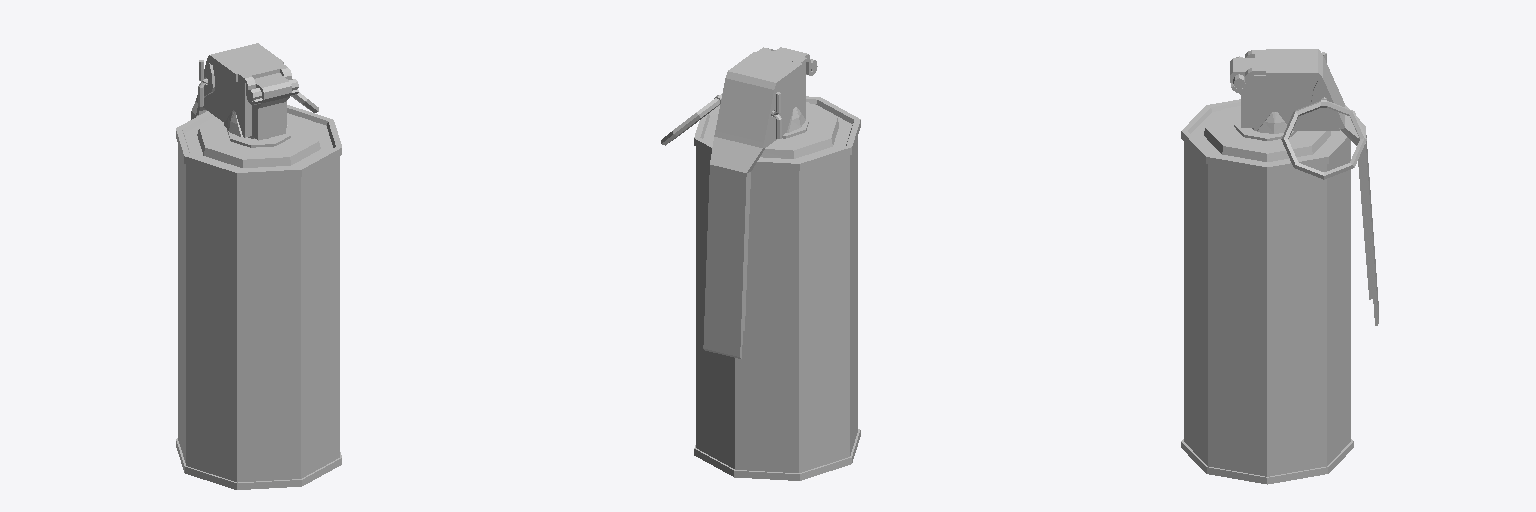
Rendered from M18 Smoke Grenade 1.obj.
3 renders of one model, left to right at view 1: azimuth 30°, elevation 25°; view 2: azimuth 150°, elevation 25°; view 3: azimuth 270°, elevation 25°, orthographic.
Parts seen in each view (by area): view 1: M18_Smoke_Grenade_1, M18_Smoke_Grenade_1_Pin_1; view 2: M18_Smoke_Grenade_1, M18_Smoke_Grenade_1_Pin_1, M18_Smoke_Grenade_1_Safety_Pin_Handle_1; view 3: M18_Smoke_Grenade_1, M18_Smoke_Grenade_1_Pin_1, M18_Smoke_Grenade_1_Safety_Pin_Handle_1.
Boxes of the visible parts, box(x1,y1,x2,y2) form: M18_Smoke_Grenade_1: box(176, 66, 341, 489); M18_Smoke_Grenade_1_Pin_1: box(191, 43, 298, 119); M18_Smoke_Grenade_1: box(694, 47, 860, 480); M18_Smoke_Grenade_1_Pin_1: box(703, 47, 817, 358); M18_Smoke_Grenade_1_Safety_Pin_Handle_1: box(661, 93, 722, 145); M18_Smoke_Grenade_1: box(1181, 56, 1353, 484); M18_Smoke_Grenade_1_Pin_1: box(1231, 49, 1378, 325); M18_Smoke_Grenade_1_Safety_Pin_Handle_1: box(1281, 101, 1366, 179).
Size of the model in its own units: 0.0628 by 0.1493 by 0.069.